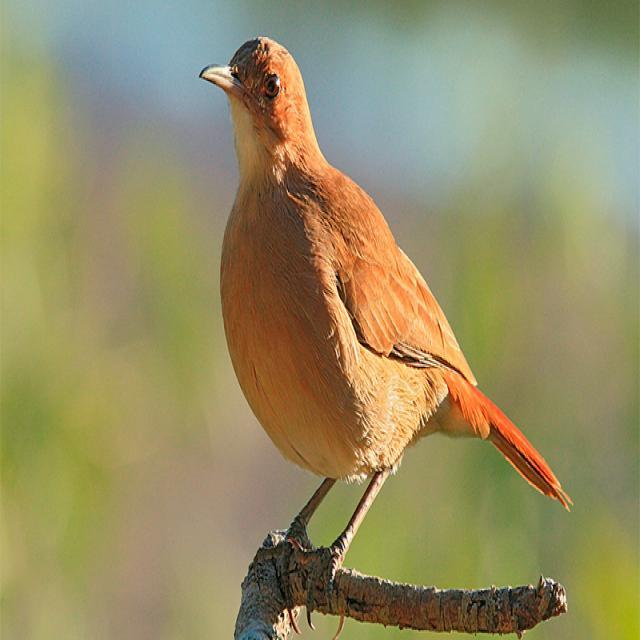bird: (182, 15, 589, 640)
